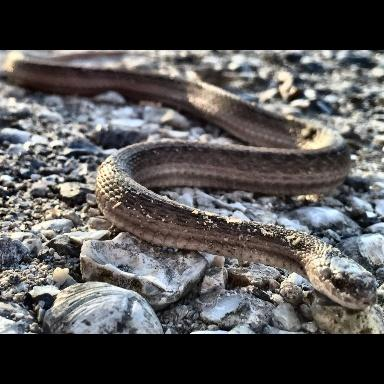snake: (0, 60, 384, 335)
